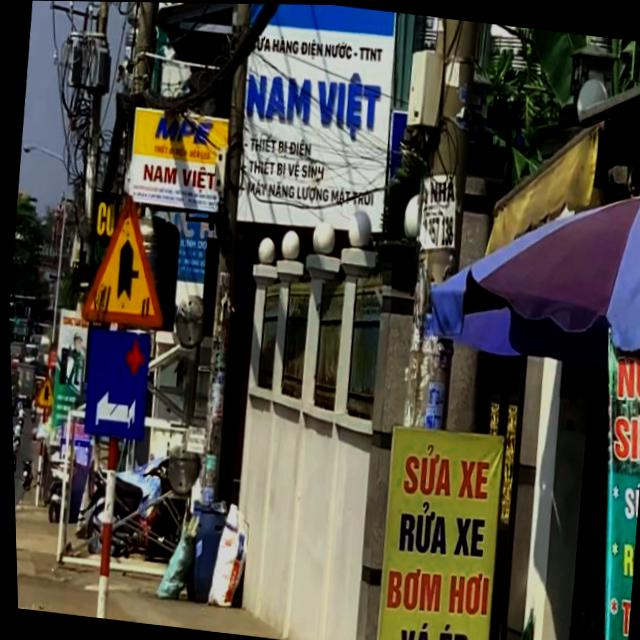Giao nhau voi duong khong uu tien ben phai: (75, 188, 175, 330)
